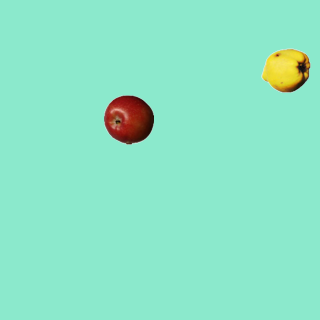Apple Braeburn: (103, 94, 153, 144)
Quince: (260, 45, 310, 95)
